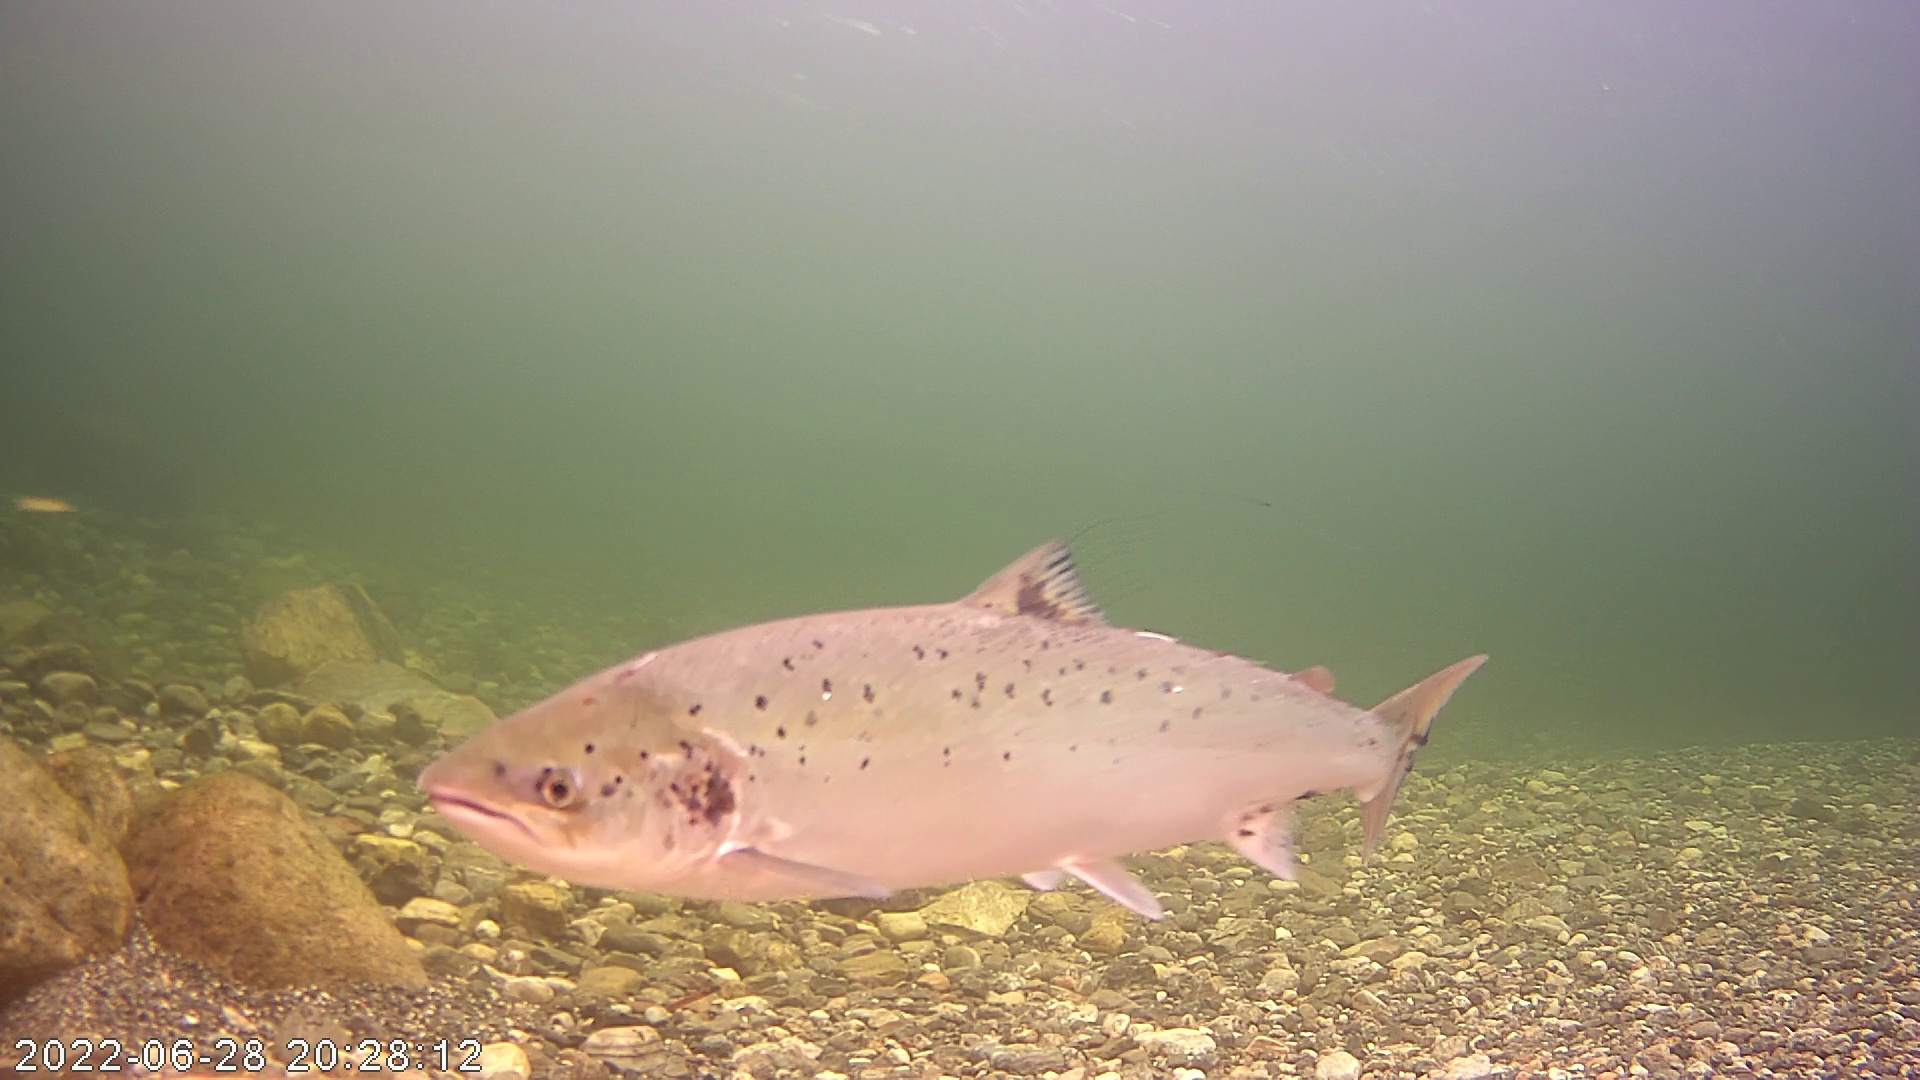salmon: (393, 501, 1466, 916)
